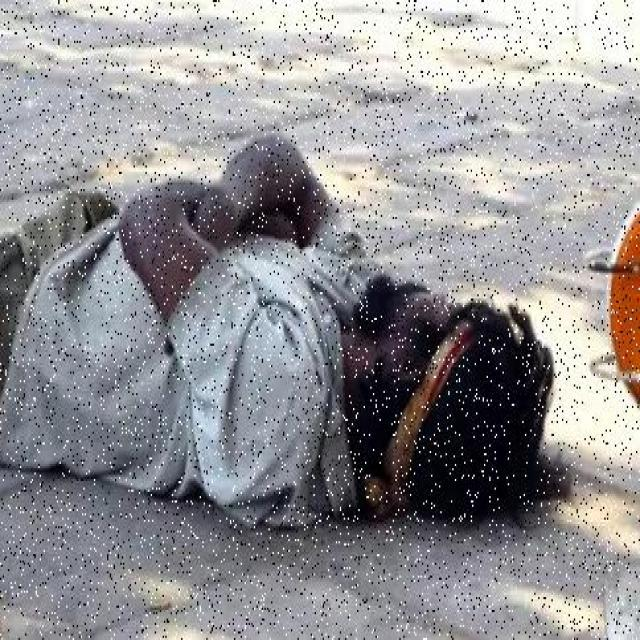fall: (1, 142, 550, 507)
